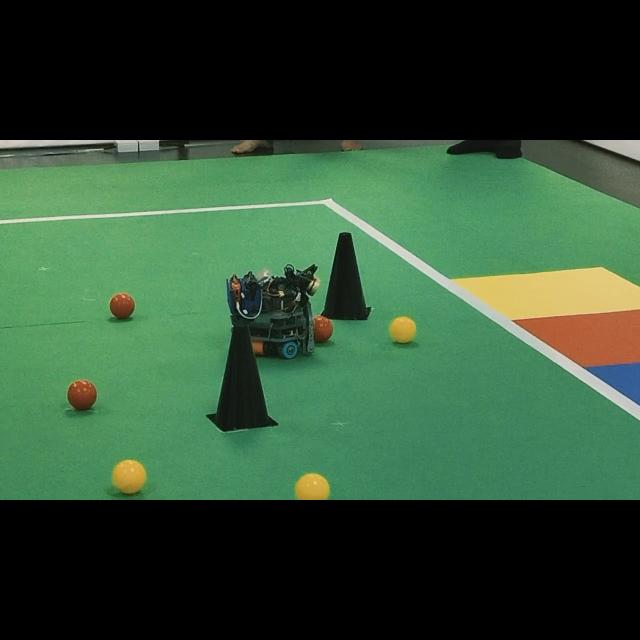ball: (112, 460, 146, 494), (295, 472, 330, 500), (68, 380, 96, 409), (390, 316, 416, 343), (110, 292, 135, 319), (314, 315, 334, 342)
goal: (454, 268, 640, 319), (515, 310, 640, 366), (586, 362, 640, 404)
